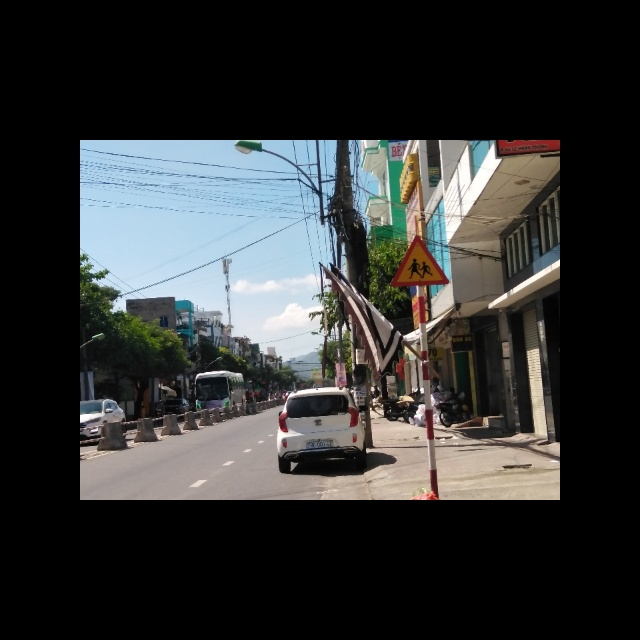Trẻ em ngang qua: (387, 235, 450, 286)
